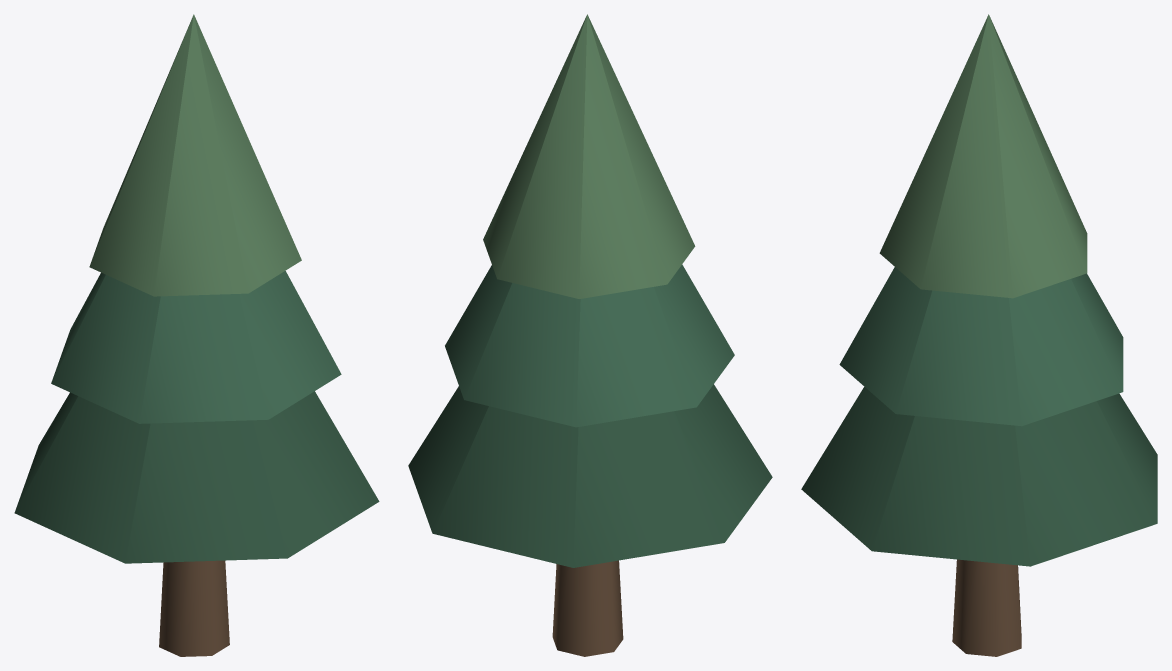
Rendered from tree.glb.
3 renders of one model, left to right at view 1: azimuth 30°, elevation 25°; view 2: azimuth 150°, elevation 25°; view 3: azimuth 270°, elevation 25°, orthographic.
Parts seen in each view (by area): view 1: foliage low, foliage crown, foliage mid, trunk; view 2: foliage low, foliage crown, foliage mid, trunk; view 3: foliage low, foliage crown, foliage mid, trunk.
Boxes of the visible parts, x1,y1,x2,y2 form: foliage low: (14, 391, 379, 563); foliage crown: (89, 14, 301, 296); foliage mid: (51, 271, 341, 423); trunk: (159, 560, 229, 656); foliage low: (408, 384, 772, 567); foliage crown: (483, 14, 695, 298); foliage mid: (445, 264, 734, 427); trunk: (552, 560, 623, 656); foliage low: (801, 387, 1157, 566); foliage crown: (879, 14, 1087, 298); foliage mid: (839, 267, 1123, 426); trunk: (952, 559, 1021, 656).
Bounding box in the file's own units: 2.01 × 3.81 × 1.96.
